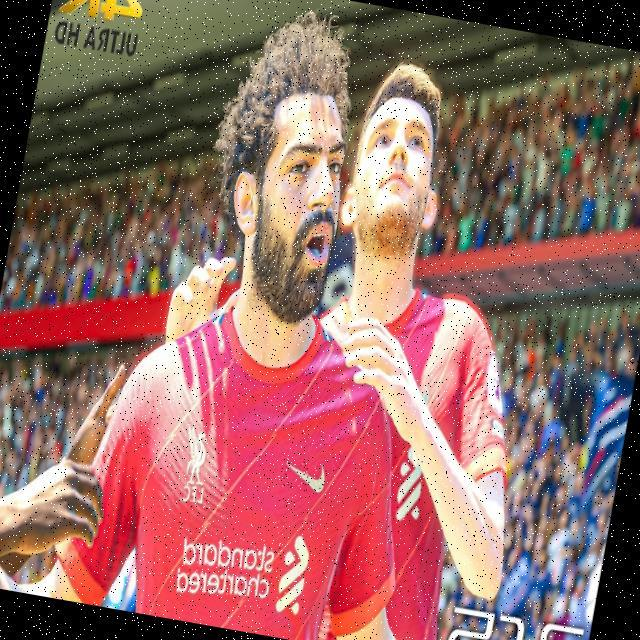Nike: (281, 457, 327, 494)
Standard Chartered: (173, 515, 312, 616), (391, 441, 431, 523)
